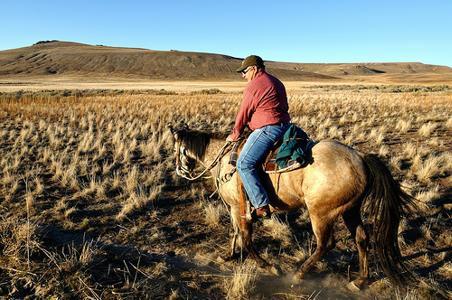person: (226, 54, 286, 220)
